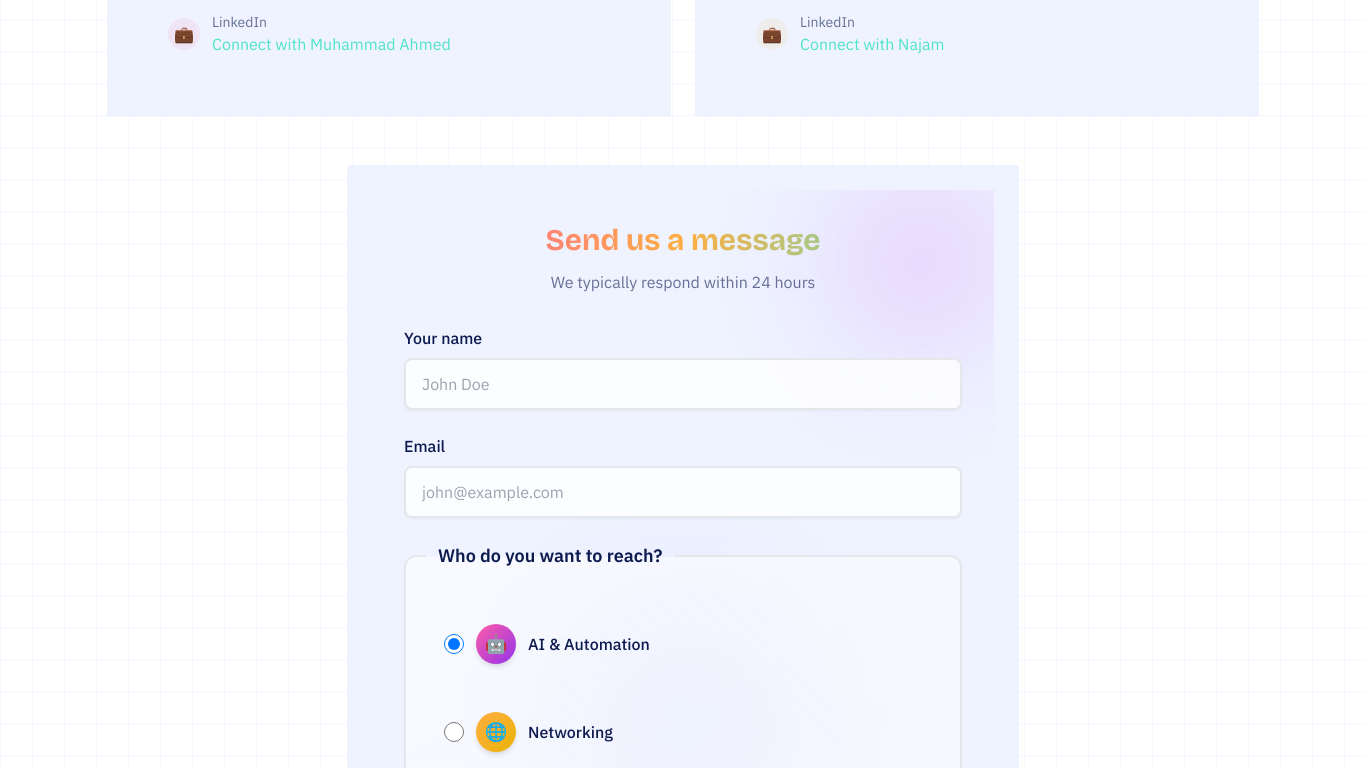
Test: ContactSection with the API configured › posts the form to the API and confirms
(page scrolled)
Type "Sara Khan" into the field labelled "Your name" at coordinates (683, 384), box [404, 358, 962, 410]
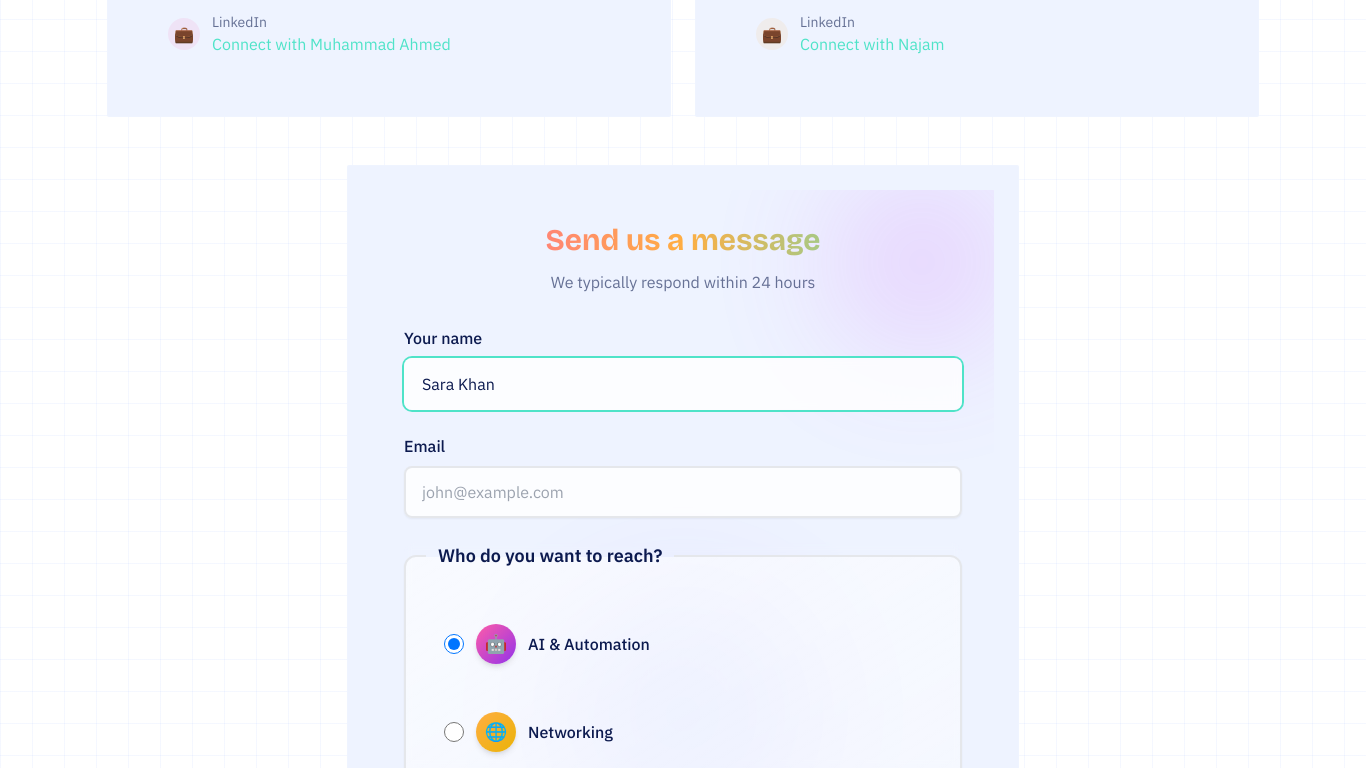
Type "sara@example.test" into the field labelled "Email" at coordinates (683, 492), box [404, 466, 962, 518]
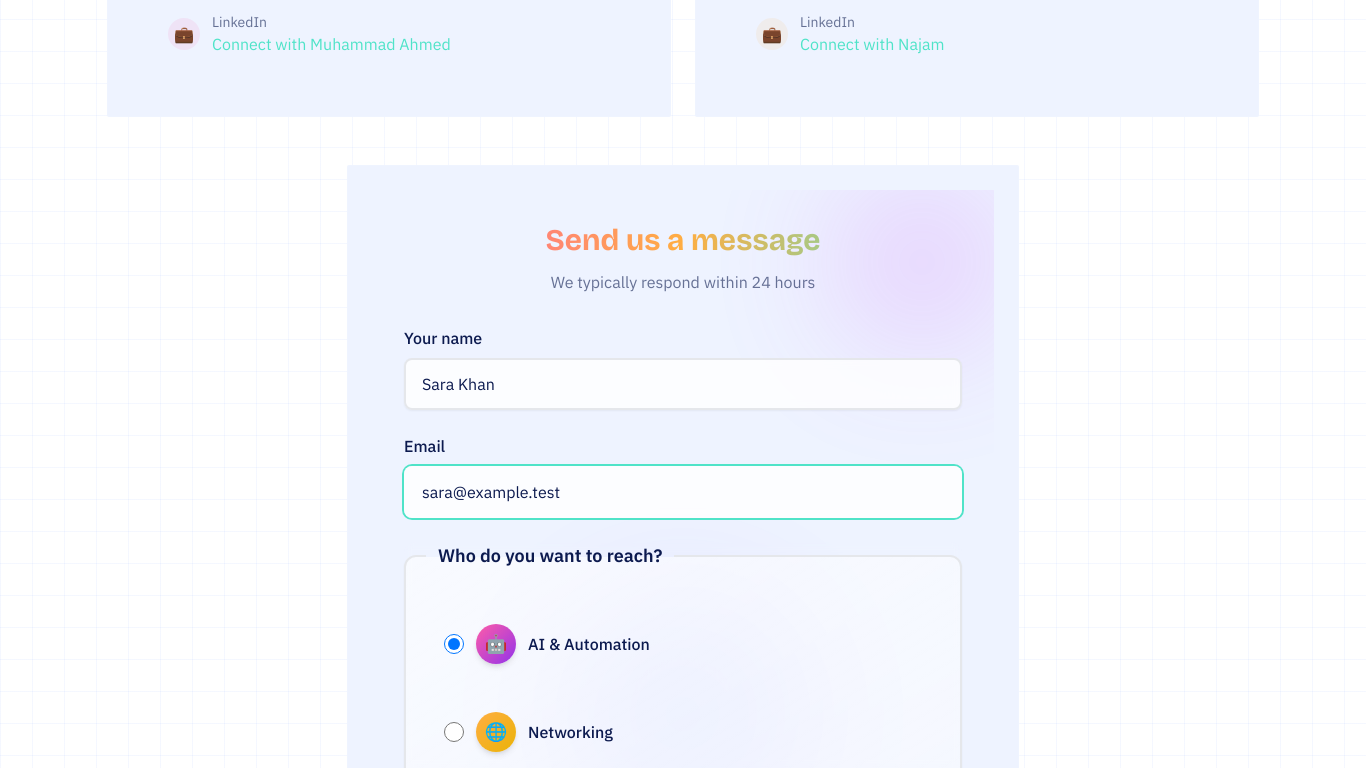
Click the radio button labelled "🤖 AI & Automation" at coordinates (454, 644), box [444, 634, 464, 654]
(page scrolled)
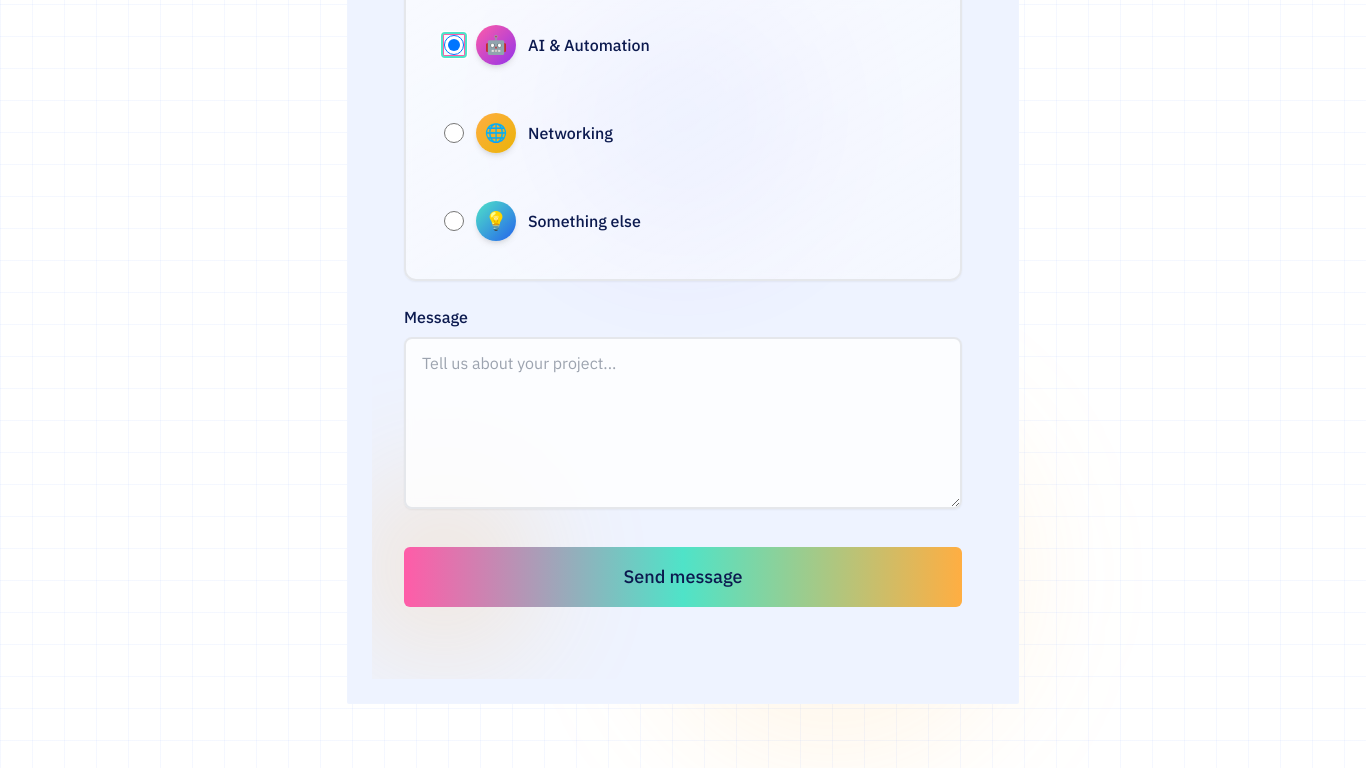
Type "We want a SQL agent for our weekly reports." into the text box labelled "Message" at coordinates (683, 423), box [404, 337, 962, 509]
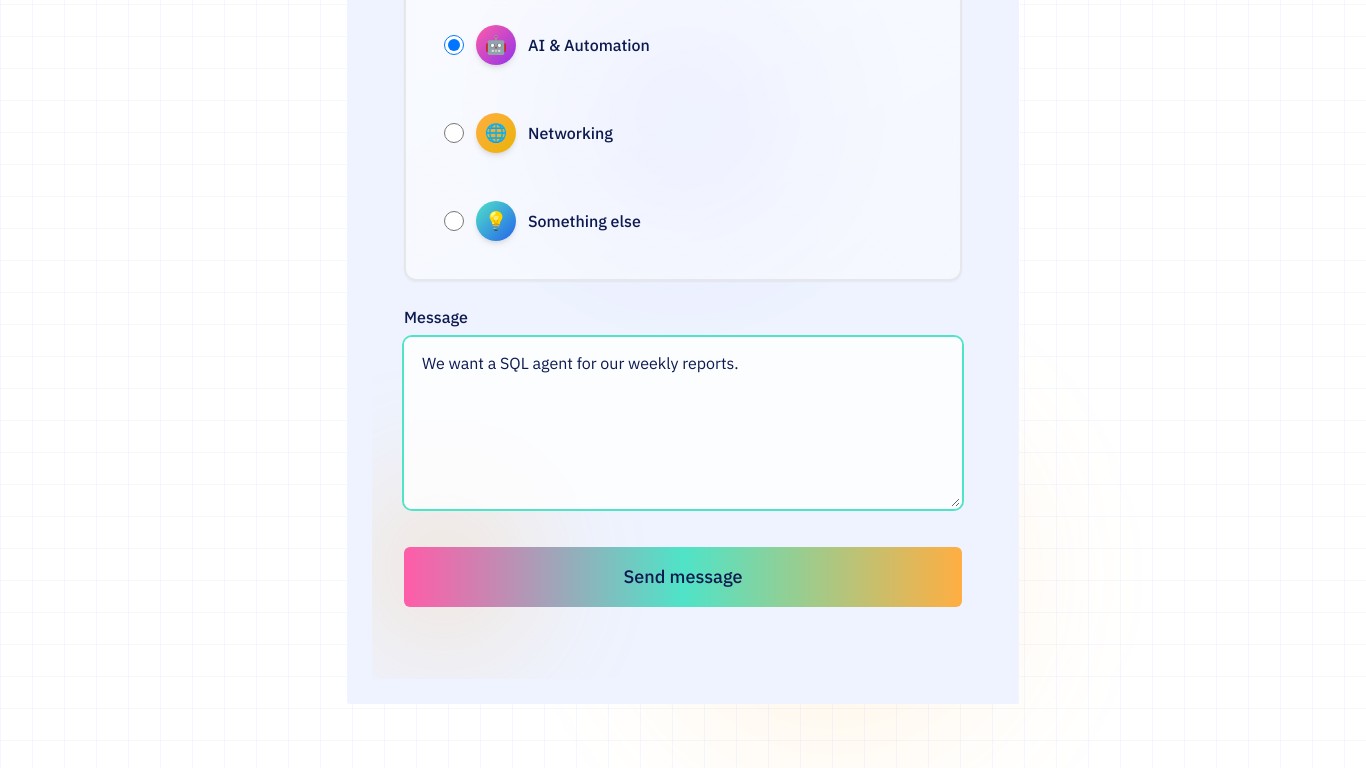
Click the button "Send message" at coordinates (683, 577), box [404, 547, 962, 607]
(page scrolled)
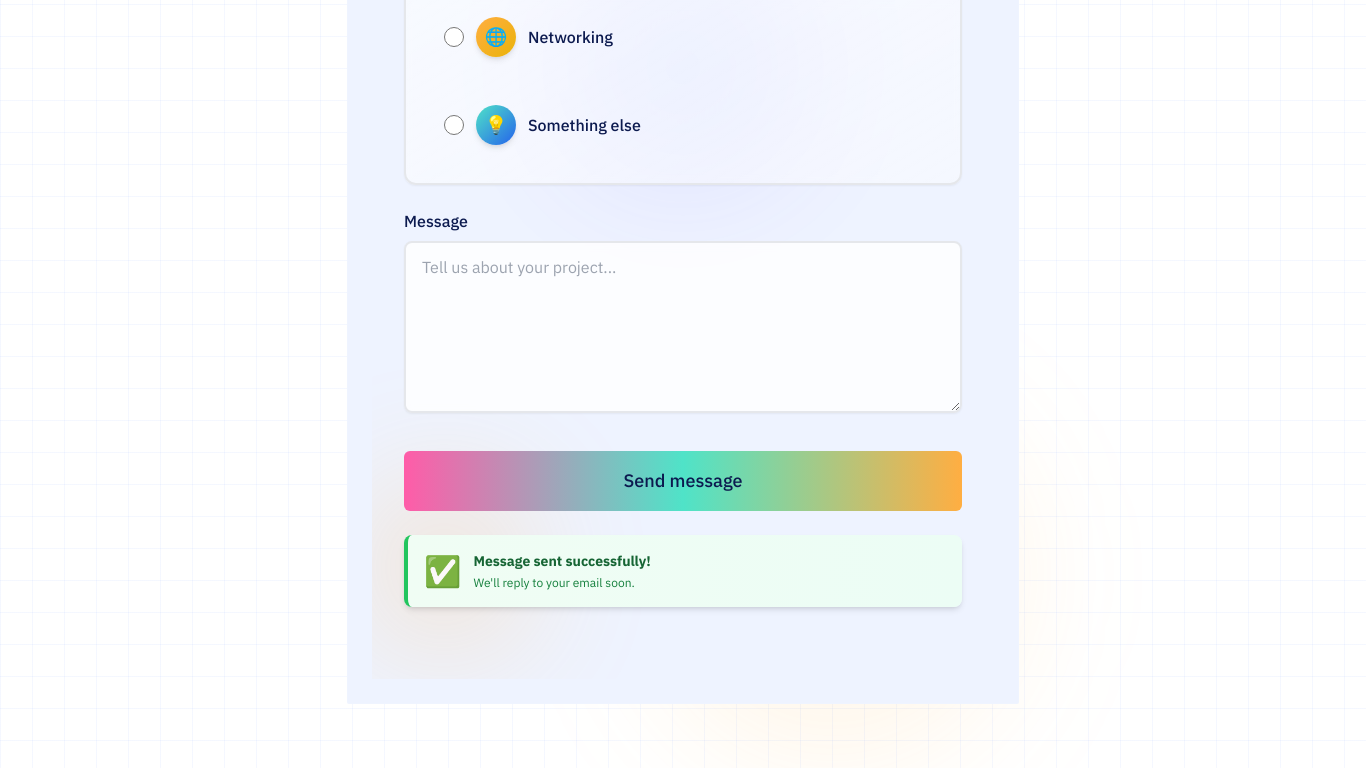
Now the text "Message sent successfully!" is shown, box [473, 551, 651, 571]
